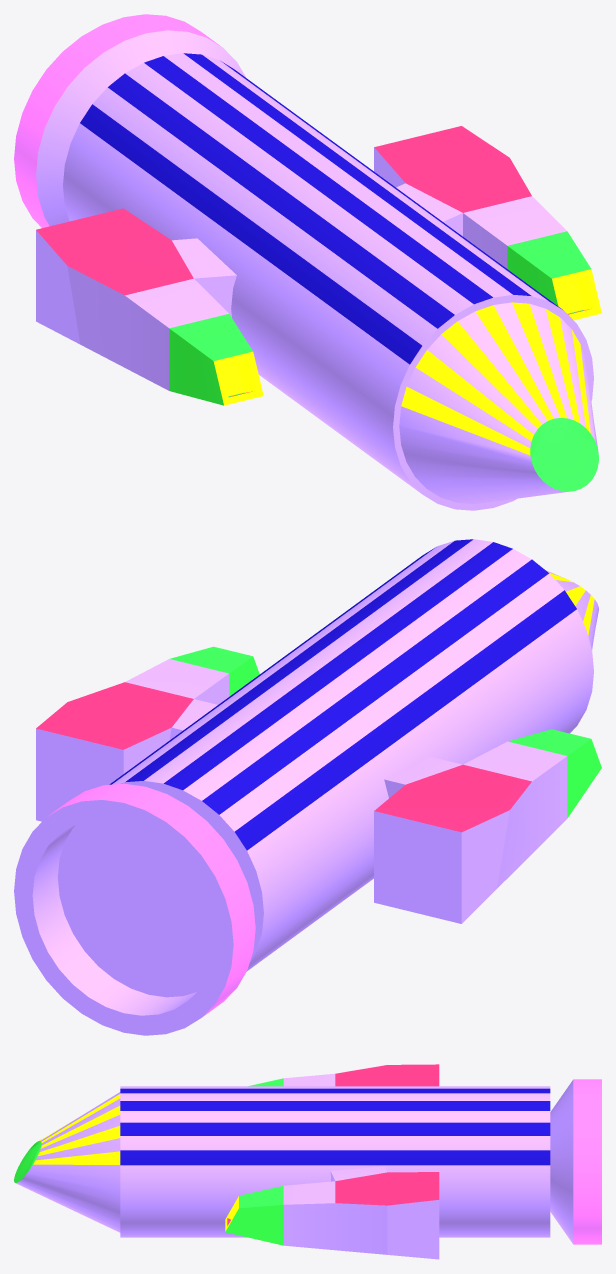
File: Small_enemies_3.fbx
The picture shows the model from 3 angles, top to bottom: view 1: azimuth 30°, elevation 25°; view 2: azimuth 150°, elevation 25°; view 3: azimuth 270°, elevation 25°; orthographic projection. The views are drawn at different scales.
Visible parts, largest first — view 1: Cube.001; view 2: Cube.001; view 3: Cube.001.
Boxes of the visible parts, x1=… form: Cube.001: x1=14, y1=14, x2=601, y2=510; Cube.001: x1=14, y1=539, x2=601, y2=1035; Cube.001: x1=14, y1=1064, x2=601, y2=1259.
Size of the model in its own units: 136 by 67.35 by 240.
